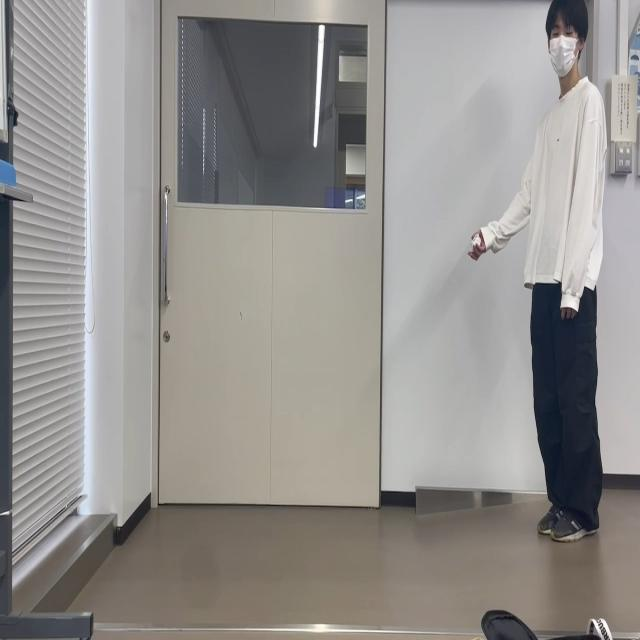paper: (468, 225, 489, 265)
